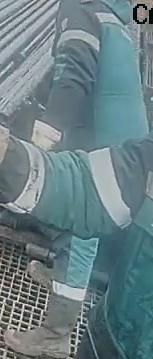gloves: (30, 113, 66, 150)
vest: (50, 0, 149, 150)
